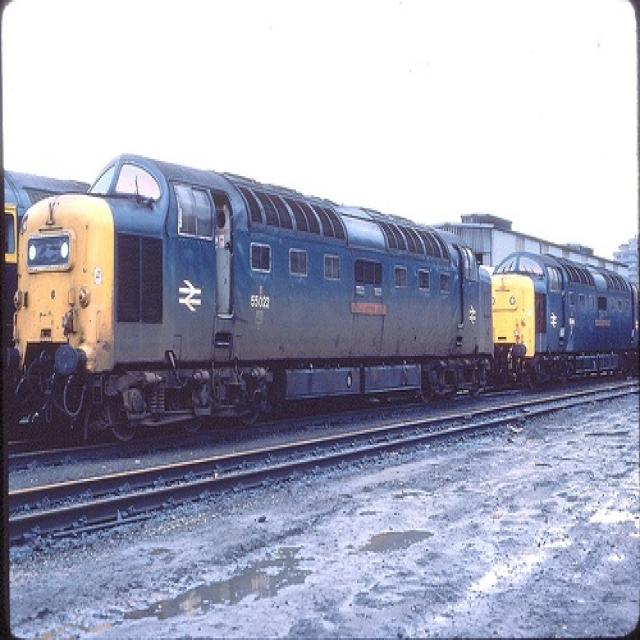train: (13, 154, 491, 442), (492, 250, 638, 382)
